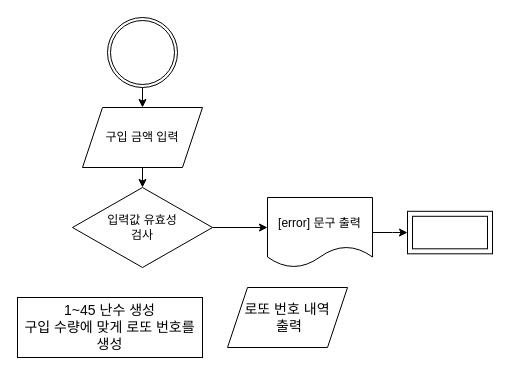
The diagram is 510 pixels wide and 375 high, and some of its shapes have lost their labels. Here are the shapes that lost their labels. From the top down, the centre of each, then its label:
At [142,52]: "시작".
At [449,232]: "종료".
